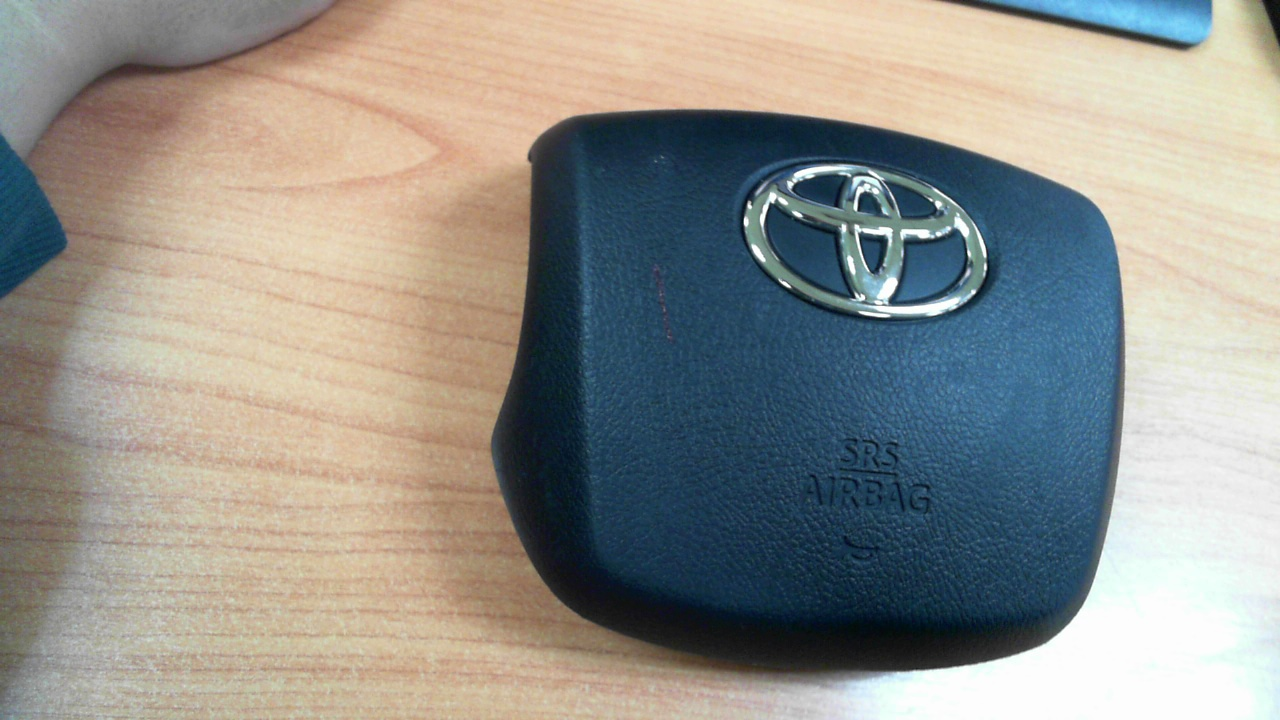Airbag: (490, 109, 1126, 676)
Toyota: (743, 164, 988, 318)
